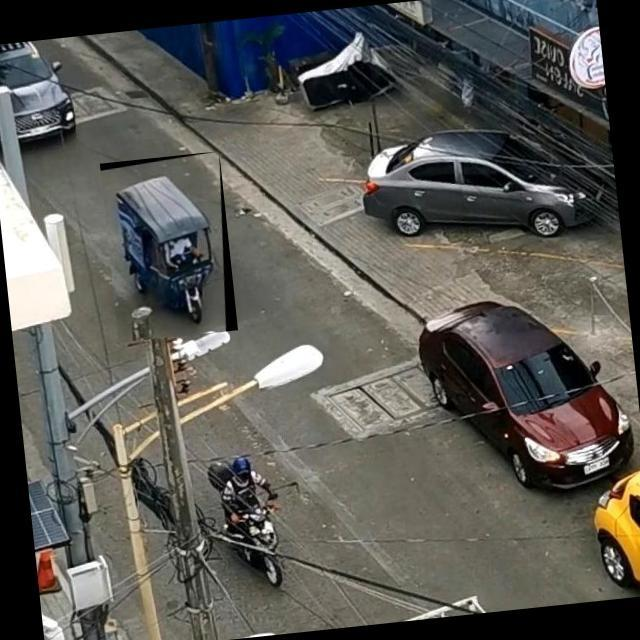Others: (99, 150, 237, 342)
